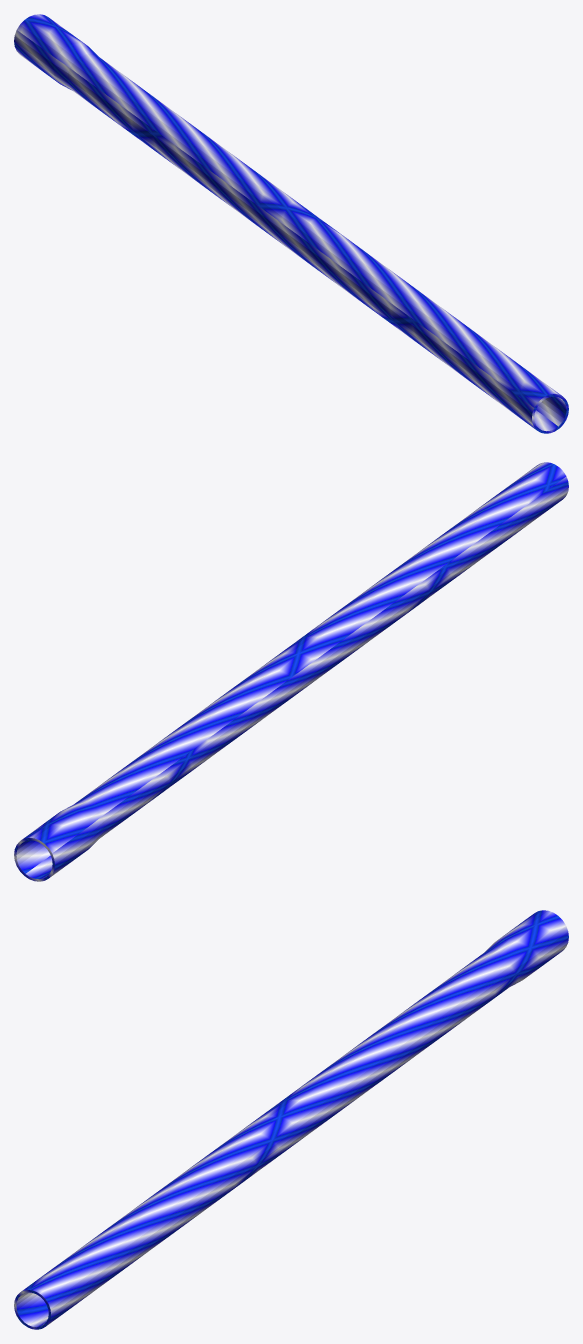
The model's file is pipe_model.obj.
3 renders of one model, top to bottom at view 1: azimuth 30°, elevation 25°; view 2: azimuth 150°, elevation 25°; view 3: azimuth 330°, elevation 25°, orthographic.
Visible parts, largest first — view 1: pipe_model; view 2: pipe_model; view 3: pipe_model.
Boxes of the visible parts, left/top/right/bottom form: pipe_model: left=14, top=14, right=568, bottom=433; pipe_model: left=14, top=462, right=568, bottom=881; pipe_model: left=14, top=910, right=568, bottom=1329.
Size of the model in its own units: 2.22 by 2.22 by 48.31.
1 material, 1 textured.
